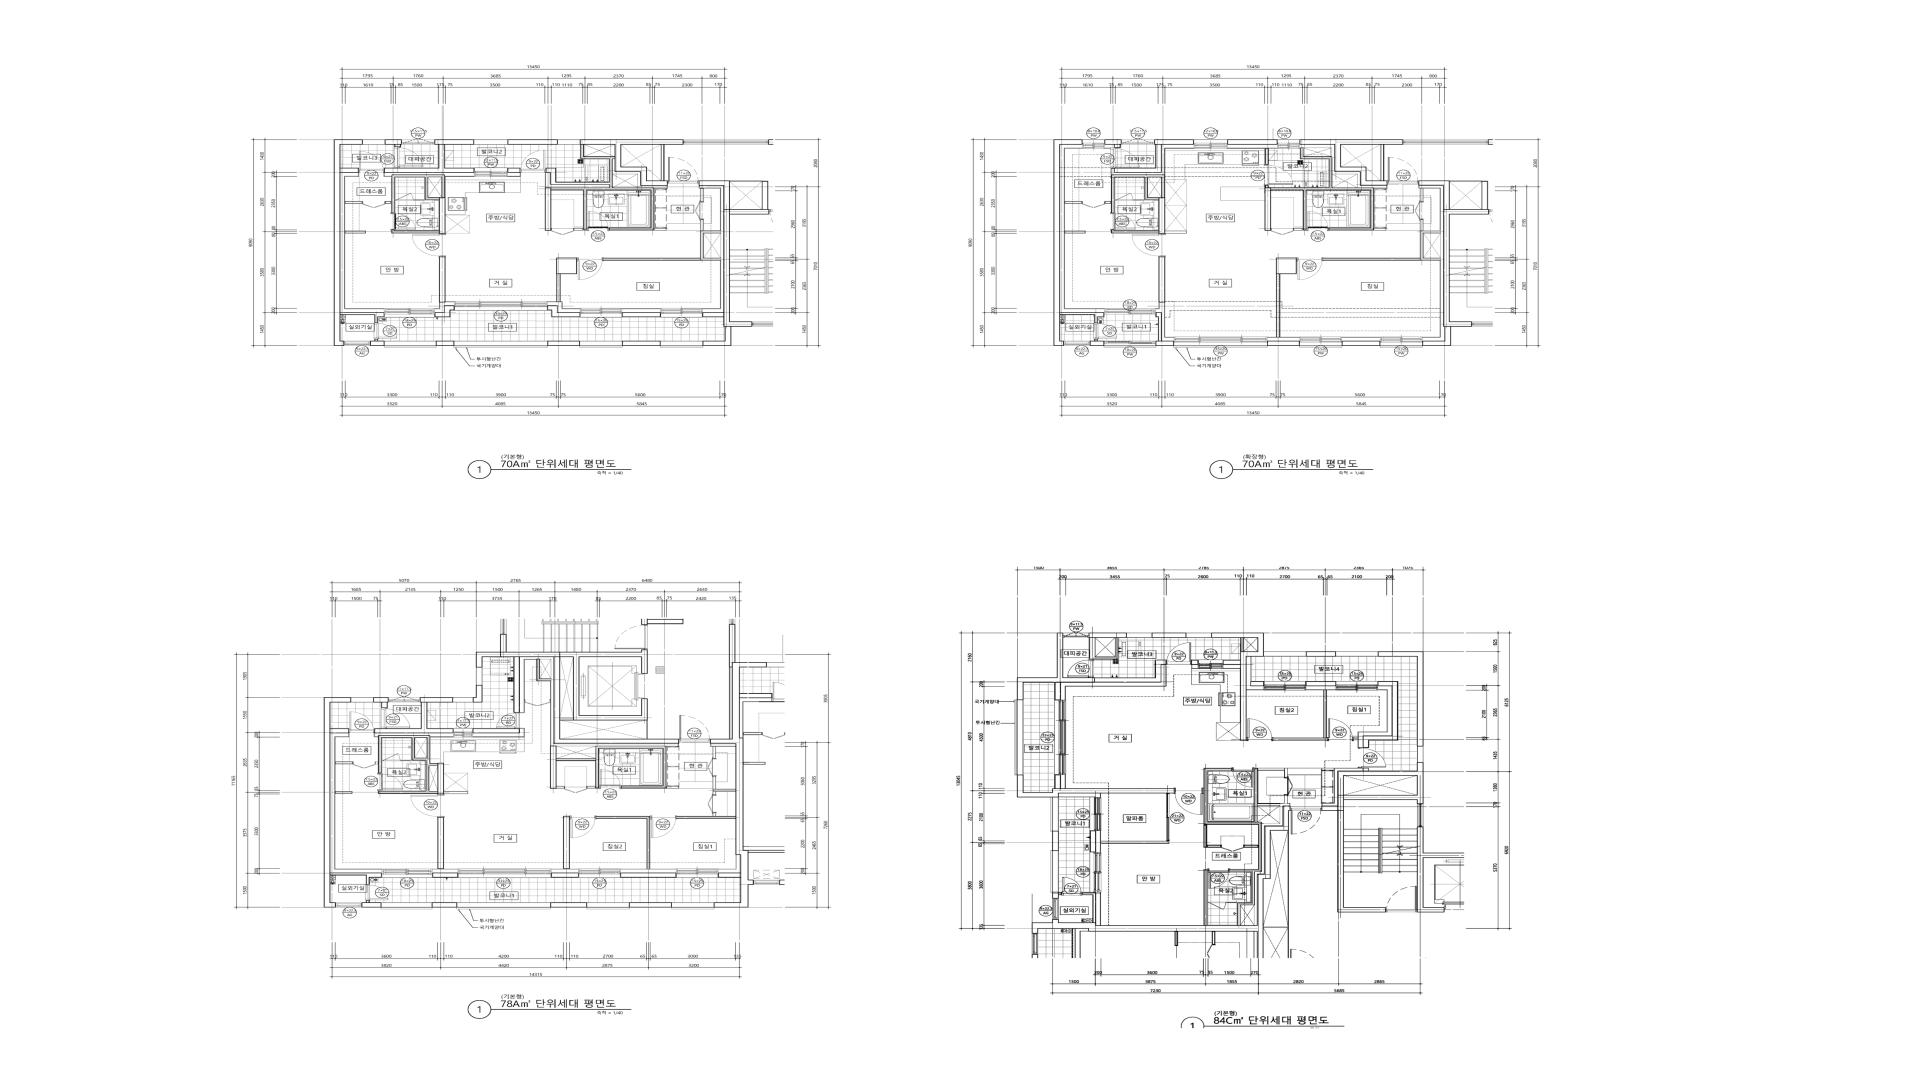door: (1291, 807, 1321, 835), (679, 715, 711, 741), (1387, 157, 1419, 183), (667, 157, 699, 183), (615, 625, 647, 650), (410, 794, 444, 818), (1174, 789, 1204, 815), (413, 233, 446, 257), (1133, 233, 1166, 257), (1265, 165, 1294, 186), (650, 816, 676, 839), (1246, 719, 1273, 741), (1328, 719, 1354, 741), (520, 150, 546, 173), (381, 708, 410, 728), (394, 148, 423, 167), (1110, 148, 1139, 167), (1166, 642, 1191, 665), (348, 712, 375, 733), (570, 816, 596, 837), (1296, 258, 1323, 280), (576, 258, 603, 280), (1358, 748, 1386, 767), (359, 152, 384, 173), (1067, 659, 1095, 678), (599, 769, 621, 789), (1207, 869, 1229, 889), (1307, 211, 1329, 231), (587, 211, 609, 231), (1233, 767, 1254, 787), (378, 774, 402, 791), (1062, 877, 1083, 895), (392, 214, 415, 229), (1095, 323, 1117, 339), (375, 323, 397, 339), (496, 713, 520, 728), (367, 885, 388, 901), (1208, 902, 1237, 910), (1166, 794, 1170, 841), (695, 200, 704, 220), (525, 699, 550, 705), (352, 762, 376, 769), (1284, 777, 1292, 796), (1081, 202, 1105, 208), (564, 786, 587, 793), (1221, 845, 1244, 852), (1271, 228, 1294, 235), (551, 228, 574, 235), (363, 202, 385, 208), (708, 758, 716, 777), (1415, 202, 1423, 220), (382, 753, 400, 761), (708, 795, 716, 812), (1116, 193, 1133, 200), (396, 193, 413, 200)
wall: (1031, 806, 1290, 959), (676, 624, 749, 907), (1323, 186, 1445, 342), (476, 650, 679, 744), (1321, 762, 1424, 913), (520, 657, 679, 746), (1204, 767, 1290, 926), (323, 698, 381, 907), (1419, 181, 1489, 345), (699, 181, 769, 345), (1054, 140, 1104, 345), (334, 140, 384, 345), (1017, 633, 1166, 700), (1271, 145, 1387, 231), (545, 145, 654, 231), (330, 733, 381, 873), (340, 173, 384, 313), (1212, 633, 1265, 741), (550, 746, 666, 789), (603, 220, 720, 261), (1300, 140, 1403, 186), (580, 140, 683, 186), (1378, 651, 1424, 746), (1418, 827, 1464, 913), (378, 736, 443, 794), (1017, 775, 1174, 798), (699, 186, 724, 313), (1110, 140, 1195, 175), (384, 140, 475, 173), (596, 816, 650, 869), (1273, 690, 1328, 741), (375, 698, 454, 733), (1358, 682, 1398, 748), (1263, 831, 1288, 927), (1105, 175, 1166, 214), (1267, 274, 1299, 342), (392, 174, 444, 214), (1321, 767, 1364, 806), (613, 160, 667, 187), (1344, 775, 1418, 795), (1228, 145, 1278, 165), (1155, 302, 1174, 342), (1089, 638, 1118, 659), (1155, 313, 1174, 345), (472, 728, 525, 737), (1423, 233, 1441, 258), (1257, 806, 1280, 824), (717, 855, 740, 873), (713, 777, 736, 795), (709, 744, 736, 758), (384, 173, 475, 177), (563, 816, 570, 869), (547, 306, 580, 316), (547, 302, 580, 313), (438, 818, 444, 869), (1276, 257, 1296, 274), (556, 257, 576, 274), (375, 733, 454, 737), (537, 659, 551, 680), (620, 873, 676, 878), (439, 257, 446, 302), (1159, 257, 1166, 302), (1265, 186, 1271, 231), (641, 618, 683, 625), (1303, 148, 1332, 157), (1228, 140, 1278, 145), (508, 140, 558, 145), (472, 728, 520, 733), (1089, 831, 1101, 852), (1305, 682, 1336, 690), (1159, 198, 1166, 233), (439, 198, 446, 233), (620, 869, 676, 873), (1204, 869, 1208, 926), (629, 902, 671, 907), (435, 306, 455, 316), (435, 302, 455, 313), (1089, 633, 1126, 638), (551, 902, 587, 907), (392, 229, 439, 233), (1112, 229, 1159, 233), (729, 667, 732, 738), (472, 686, 483, 703), (1101, 841, 1170, 844), (1153, 633, 1187, 638), (373, 698, 389, 708), (1305, 651, 1336, 657), (1342, 342, 1381, 345), (1342, 338, 1381, 342), (622, 309, 661, 313), (622, 342, 661, 345), (622, 313, 661, 316), (551, 873, 579, 878), (661, 145, 665, 181), (1381, 145, 1385, 181), (385, 140, 402, 148), (1105, 140, 1122, 148), (433, 873, 458, 878), (361, 901, 381, 907), (1052, 831, 1059, 851), (433, 902, 456, 907), (1267, 342, 1299, 345), (547, 342, 579, 345), (551, 869, 579, 873), (508, 167, 520, 177), (556, 274, 560, 302), (433, 869, 458, 873), (1091, 339, 1104, 345), (371, 339, 384, 345), (436, 342, 454, 345), (443, 791, 468, 794), (1191, 661, 1199, 669), (1064, 231, 1085, 233), (1166, 231, 1187, 233), (345, 231, 365, 233), (700, 189, 704, 202), (1064, 202, 1081, 204), (345, 202, 363, 204), (1449, 181, 1482, 182), (731, 181, 762, 182), (1105, 145, 1114, 149), (666, 786, 679, 789), (560, 717, 574, 720), (1052, 893, 1059, 898), (1241, 638, 1244, 651), (654, 228, 666, 231), (574, 228, 584, 231), (587, 786, 596, 789), (556, 786, 564, 789), (385, 202, 392, 204), (413, 199, 425, 200), (400, 760, 411, 761), (1133, 199, 1143, 200), (713, 812, 716, 816), (1059, 893, 1062, 895), (1353, 738, 1358, 740), (376, 762, 378, 765)
window: (1174, 338, 1267, 348), (458, 869, 551, 878), (1055, 700, 1065, 775), (455, 302, 547, 310), (456, 903, 551, 910), (454, 342, 547, 348), (1015, 700, 1023, 775), (1089, 852, 1101, 893), (384, 309, 435, 318), (381, 869, 433, 878), (1379, 338, 1423, 348), (1299, 338, 1342, 348), (1089, 798, 1101, 831), (661, 309, 703, 318), (580, 309, 622, 318), (1050, 851, 1059, 893), (676, 869, 719, 878), (579, 869, 620, 878), (1104, 342, 1156, 348), (384, 342, 436, 348), (671, 902, 715, 910), (381, 903, 433, 910), (587, 902, 629, 910), (1263, 682, 1305, 690), (1336, 682, 1378, 690), (1193, 140, 1228, 149), (475, 167, 508, 177), (1050, 798, 1059, 831), (579, 342, 622, 348), (661, 342, 703, 348), (1104, 309, 1155, 314), (1199, 659, 1224, 669), (1263, 651, 1305, 657), (1336, 651, 1378, 657), (388, 696, 419, 703), (1122, 138, 1154, 145), (402, 138, 434, 145), (1278, 140, 1300, 149), (1083, 140, 1105, 149), (473, 140, 508, 145), (1063, 632, 1089, 638), (454, 728, 472, 737), (1418, 804, 1424, 827), (1126, 633, 1153, 638), (1052, 898, 1059, 919), (335, 902, 361, 907), (1187, 633, 1212, 638), (476, 667, 483, 686), (363, 140, 385, 145), (558, 140, 580, 145), (351, 698, 373, 703), (452, 698, 472, 703), (344, 342, 371, 345), (1064, 342, 1091, 345), (1418, 746, 1424, 762)
